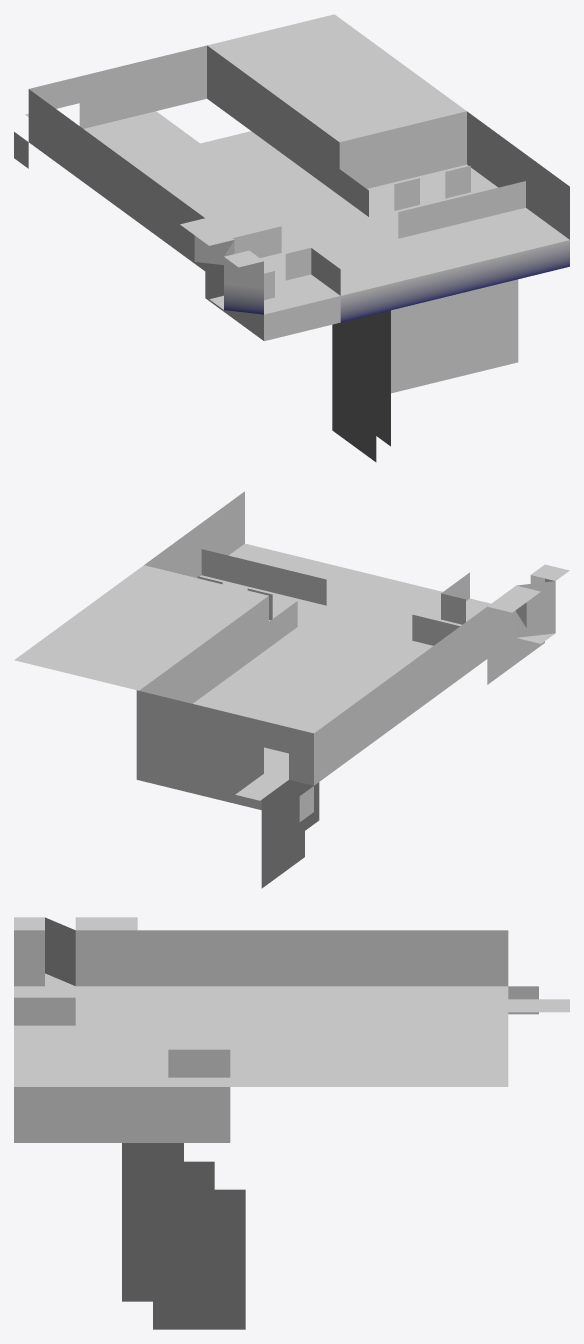
The model's file is evencare7.obj.
3 views of the same model, one above another, from view 1: azimuth 30°, elevation 25°; view 2: azimuth 150°, elevation 25°; view 3: azimuth 270°, elevation 25° (orthographic). The views are drawn at different scales.
Parts seen in each view (by area): view 1: Cube; view 2: Cube; view 3: Cube.
Part boxes in pixels (x1,y1,x2,y2): Cube: [14, 14, 569, 462]; Cube: [14, 491, 569, 888]; Cube: [14, 917, 569, 1329].
Size of the model in its own units: 13 by 11 by 18.
